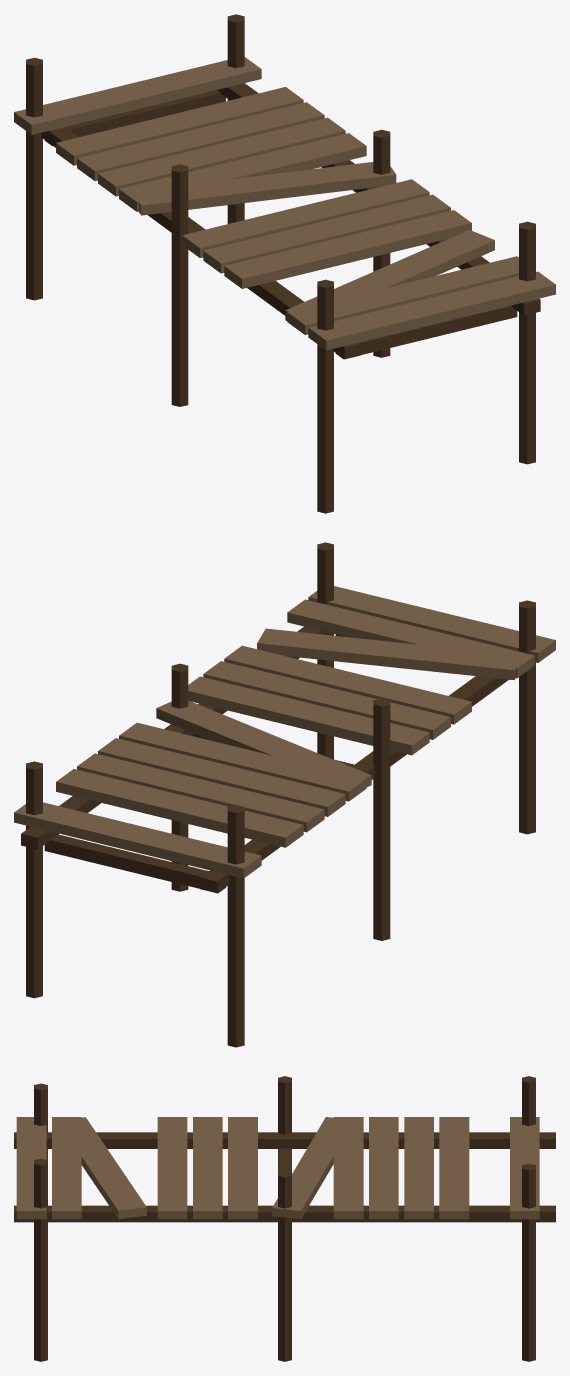
Rendered from DockWorn_LOD0_roblox.fbx.
3 views of the same model, one above another, from view 1: azimuth 30°, elevation 25°; view 2: azimuth 150°, elevation 25°; view 3: azimuth 270°, elevation 25° (orthographic). The views are drawn at different scales.
Parts seen in each view (by area): view 1: DockWorn_WornDeckMat_003, DockWorn_WornStructMat_003; view 2: DockWorn_WornDeckMat_003, DockWorn_WornStructMat_003; view 3: DockWorn_WornDeckMat_003, DockWorn_WornStructMat_003.
Boxes of the visible parts, <box> form: DockWorn_WornDeckMat_003: <box>14,57,555,350</box>; DockWorn_WornStructMat_003: <box>26,14,540,513</box>; DockWorn_WornDeckMat_003: <box>14,586,555,878</box>; DockWorn_WornStructMat_003: <box>21,542,535,1047</box>; DockWorn_WornDeckMat_003: <box>16,1117,539,1219</box>; DockWorn_WornStructMat_003: <box>14,1076,555,1361</box>.
Size of the model in its own units: 4.11 by 10 by 4.
